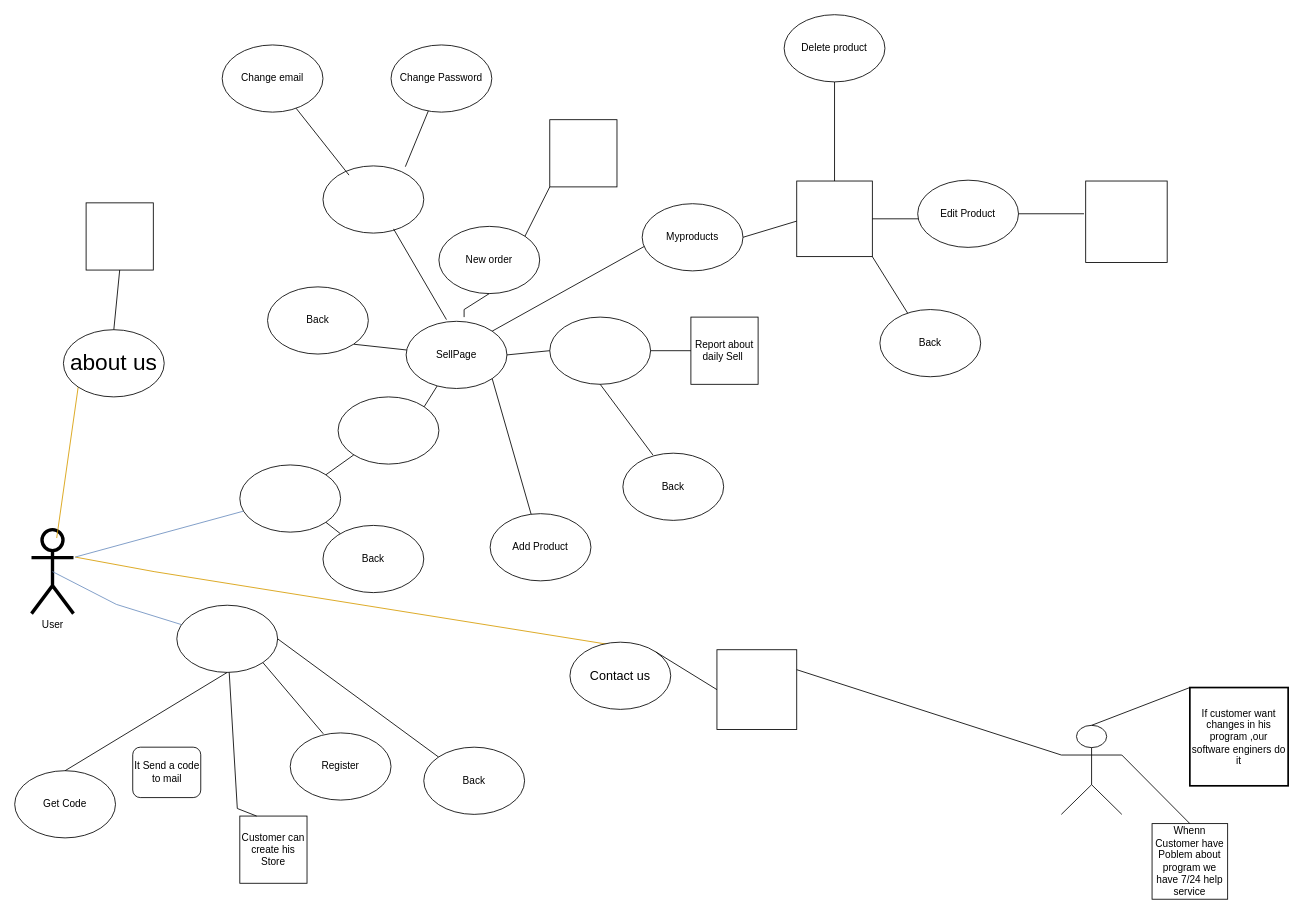
The diagram is 1304 pixels wide and 914 high, and some of its shapes have lost their labels. The shapes that lost their labels are listed below. From the top down, each one's centre as x and y in pixels, then its label:
At (x=583, y=153): "Order page for Sell".
At (x=373, y=199): "Profile".
At (x=834, y=218): "MyproductsPage".
At (x=119, y=236): "Get information about our company".
At (x=1126, y=221): "You can change details of product which selected".
At (x=600, y=350): "Report".
At (x=388, y=430): "Login".
At (x=290, y=498): "Sign in".
At (x=227, y=638): "Sign up".
At (x=756, y=689): "Open a page for contact company".
At (x=1091, y=769): "Company".
